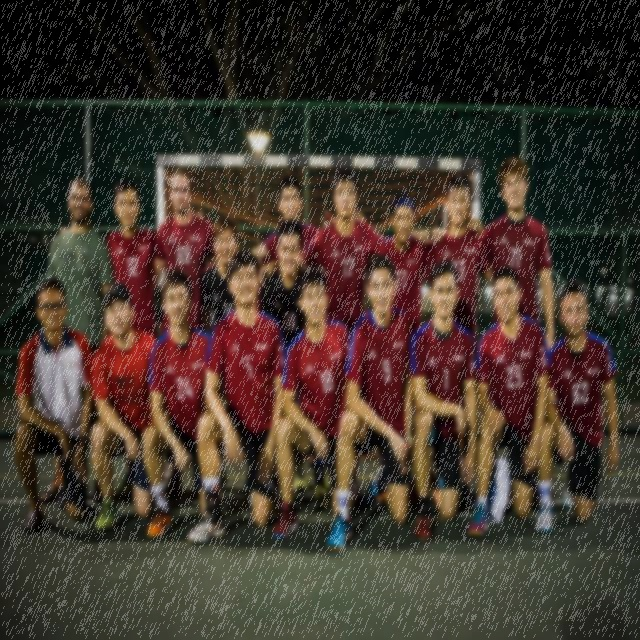pessoa: (258, 168, 430, 504), (59, 175, 206, 502), (184, 247, 286, 543), (324, 250, 417, 554), (267, 264, 362, 540), (432, 157, 556, 354), (420, 171, 490, 514), (464, 264, 547, 538), (535, 277, 620, 534), (13, 276, 96, 535), (146, 267, 222, 538), (408, 255, 479, 542), (88, 283, 158, 537), (46, 178, 115, 361), (152, 170, 218, 342), (366, 190, 430, 348), (199, 215, 239, 402), (250, 174, 321, 274), (254, 216, 304, 314)
